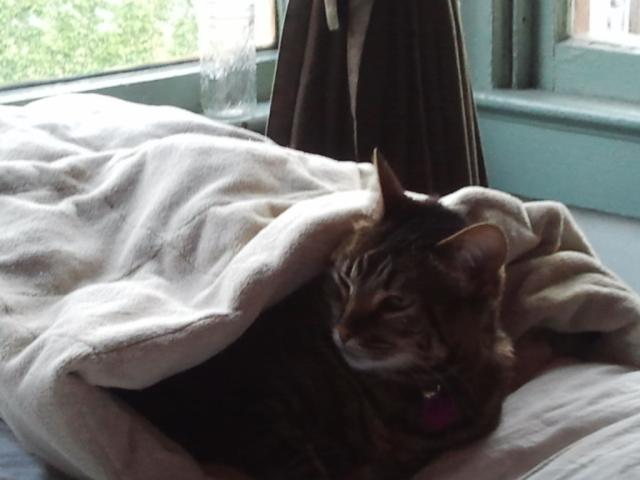Cat: (138, 147, 514, 477)
